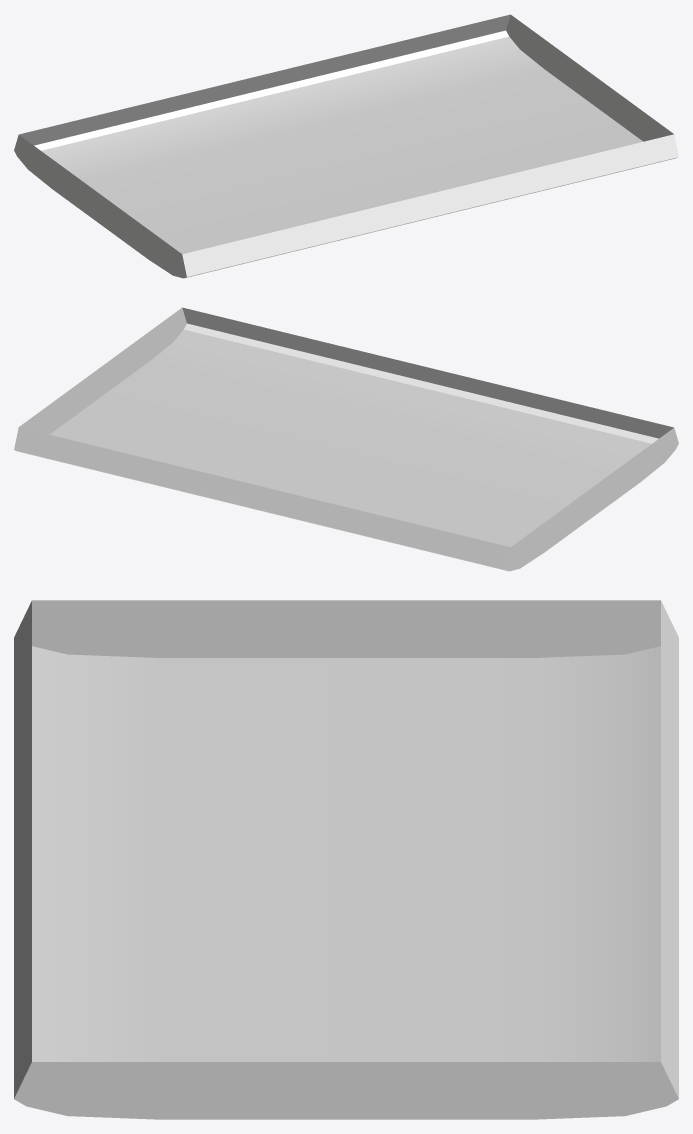
File: Building Light ON.fbx
The picture shows the model from 3 angles, top to bottom: view 1: azimuth 30°, elevation 25°; view 2: azimuth 150°, elevation 25°; view 3: azimuth 270°, elevation 25°; orthographic projection. The views are drawn at different scales.
Parts seen in each view (by area): view 1: Building Light ON; view 2: Building Light ON; view 3: Building Light ON.
Part boxes in pixels (x1=…): Building Light ON: x1=14, y1=14, x2=678, y2=278; Building Light ON: x1=14, y1=307, x2=678, y2=571; Building Light ON: x1=14, y1=600, x2=678, y2=1119.
Size of the model in its own units: 93.15 by 5.44 by 56.71.
